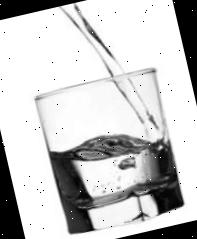glass: (34, 66, 189, 238)
